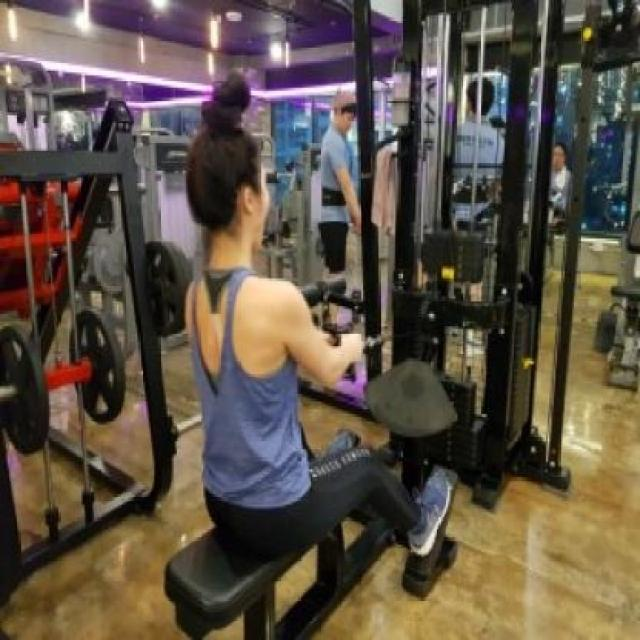Seated Cable Rows: (168, 0, 582, 640)
